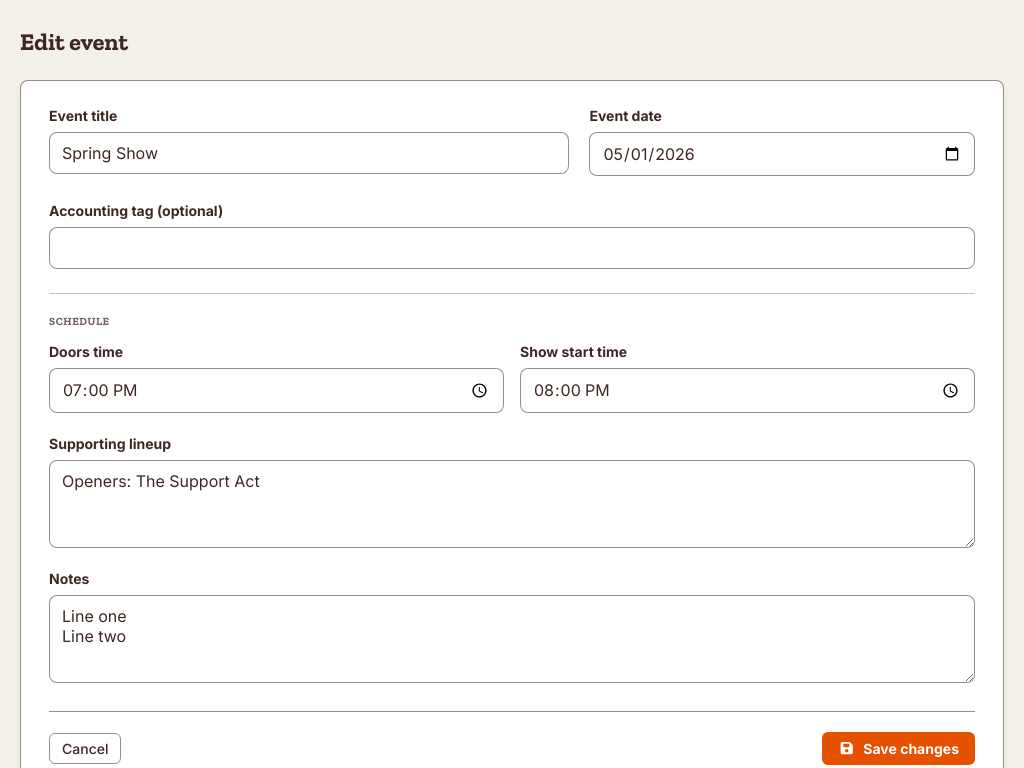
Test: EventFormPanel › surfaces a server conflict message and keeps the submitted times after a rejected save
Replace the text in the time field labelled "Show start time" with "18:00" at (748, 390), box [520,368,975,413]
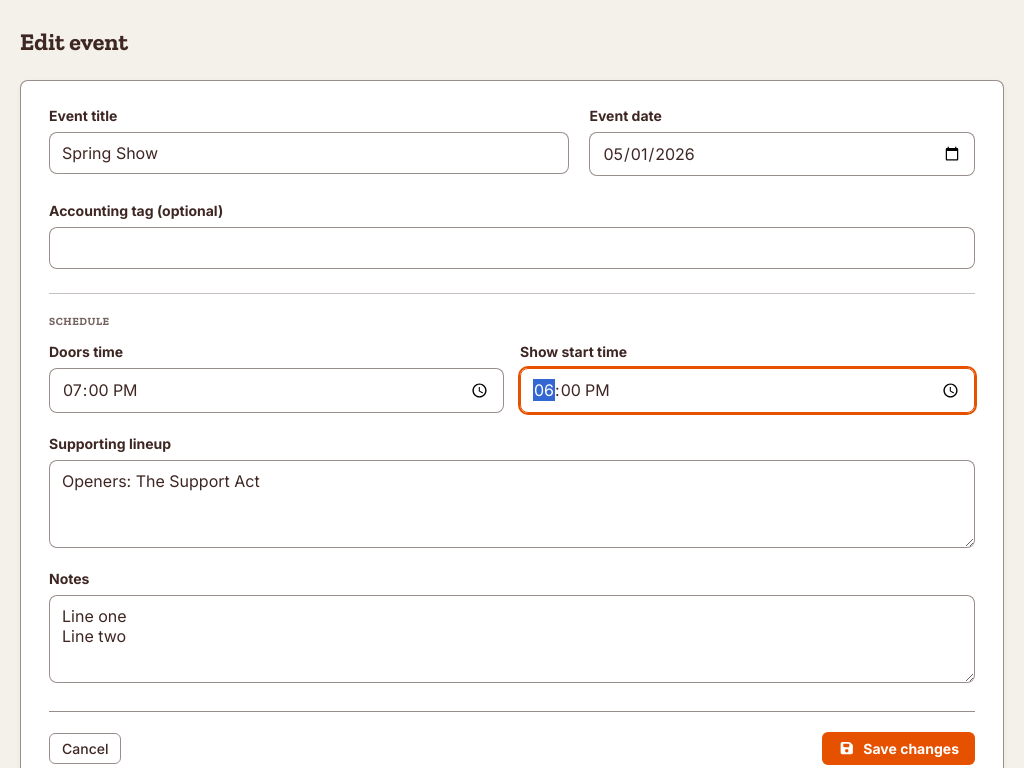
Click the button "Save changes" at (898, 748), box [822,732,975,765]
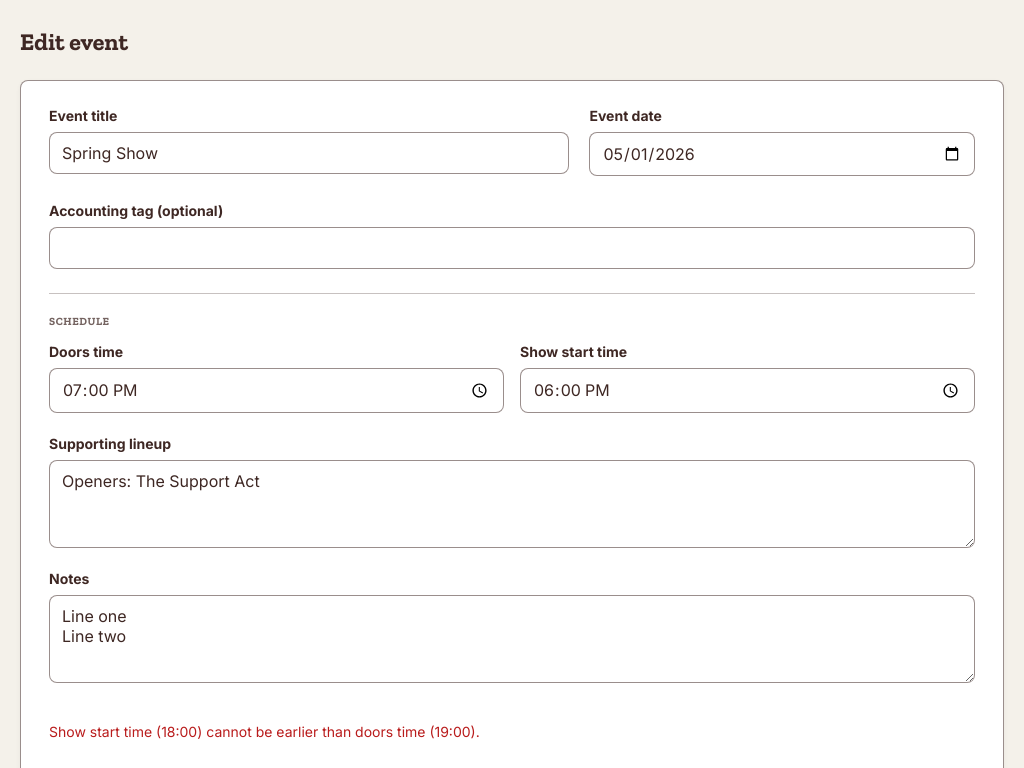
Result: the text "Show start time (18:00) cannot be earlier than doors time (19:00)." is shown at [49,723,480,740]
